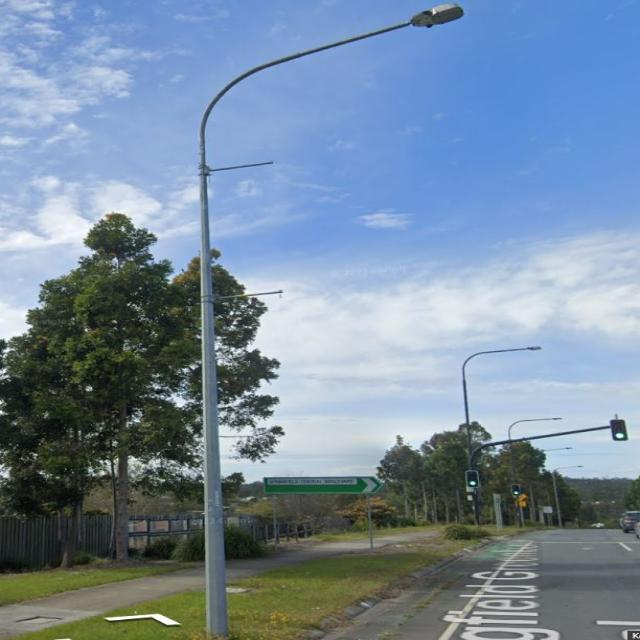steel-pole: (199, 140, 230, 639), (462, 371, 482, 526), (508, 435, 526, 531)
streetlight: (199, 2, 468, 140), (460, 344, 544, 370), (507, 415, 565, 434)
traffic-light: (610, 418, 629, 443), (465, 468, 481, 489), (511, 484, 523, 498)
